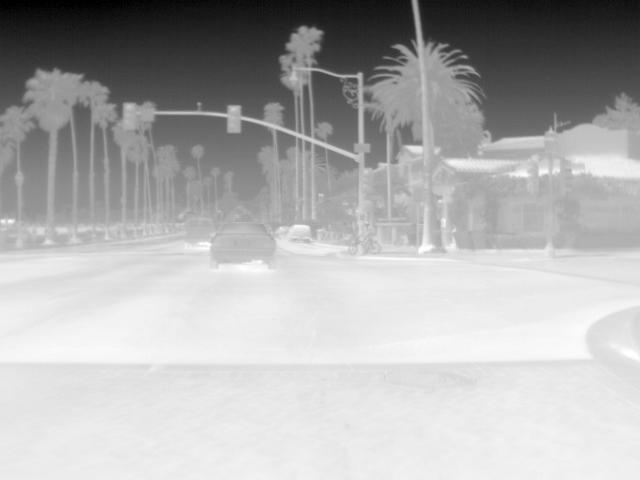car: (208, 221, 278, 269), (184, 218, 217, 246), (288, 223, 312, 244)
person: (358, 222, 372, 251)
